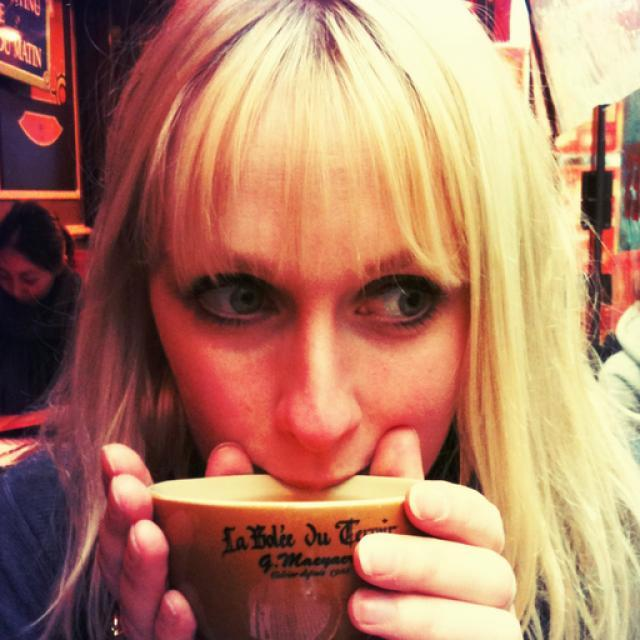neutral: (147, 104, 470, 495)
